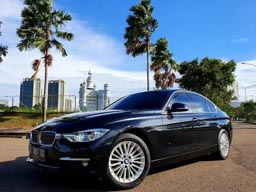plat: (29, 146, 46, 162)
